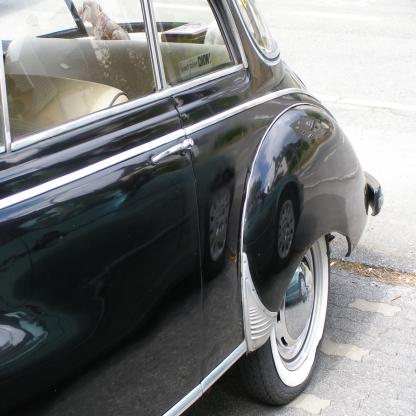Car: (3, 0, 365, 415)
